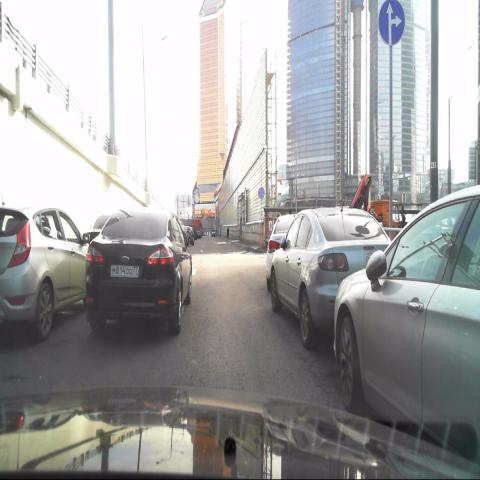3_27: (258, 187, 264, 200)
4_1_4: (376, 0, 407, 47)
